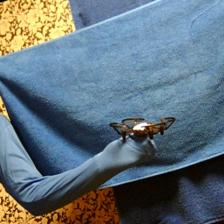drone: (110, 115, 174, 142)
